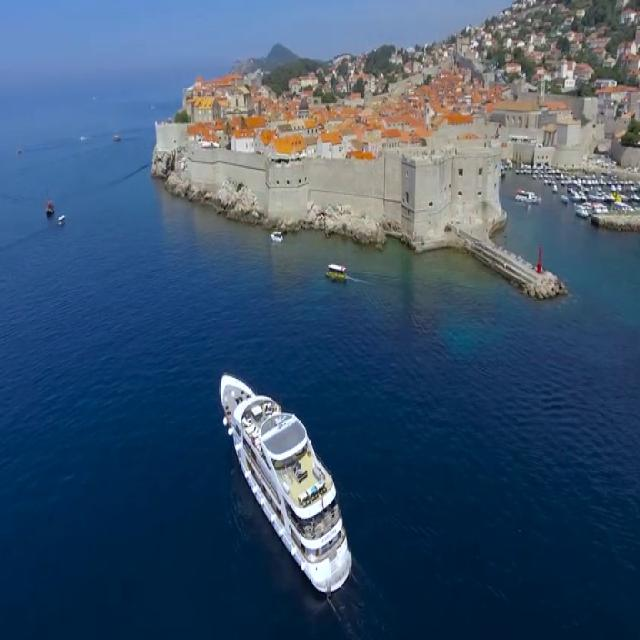passenger ship: (215, 366, 353, 594)
